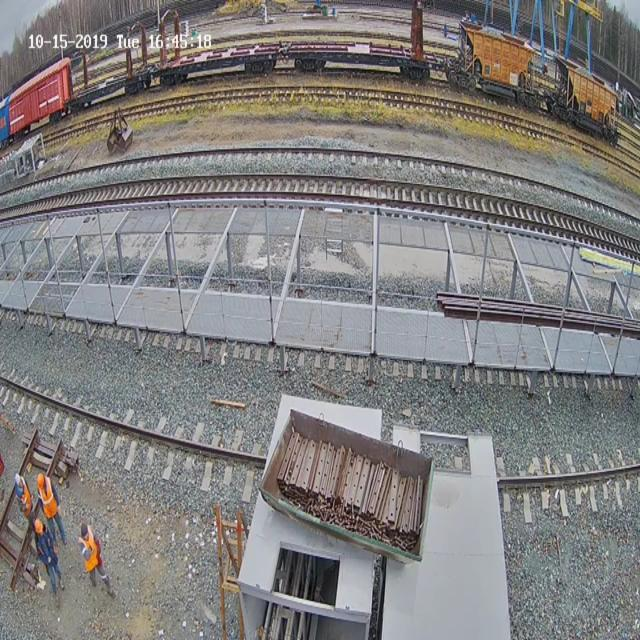Helmet: (34, 518, 43, 534), (37, 473, 44, 489), (81, 522, 87, 538)
Person: (78, 522, 115, 598), (34, 518, 64, 595), (37, 473, 67, 546), (14, 473, 33, 519)
